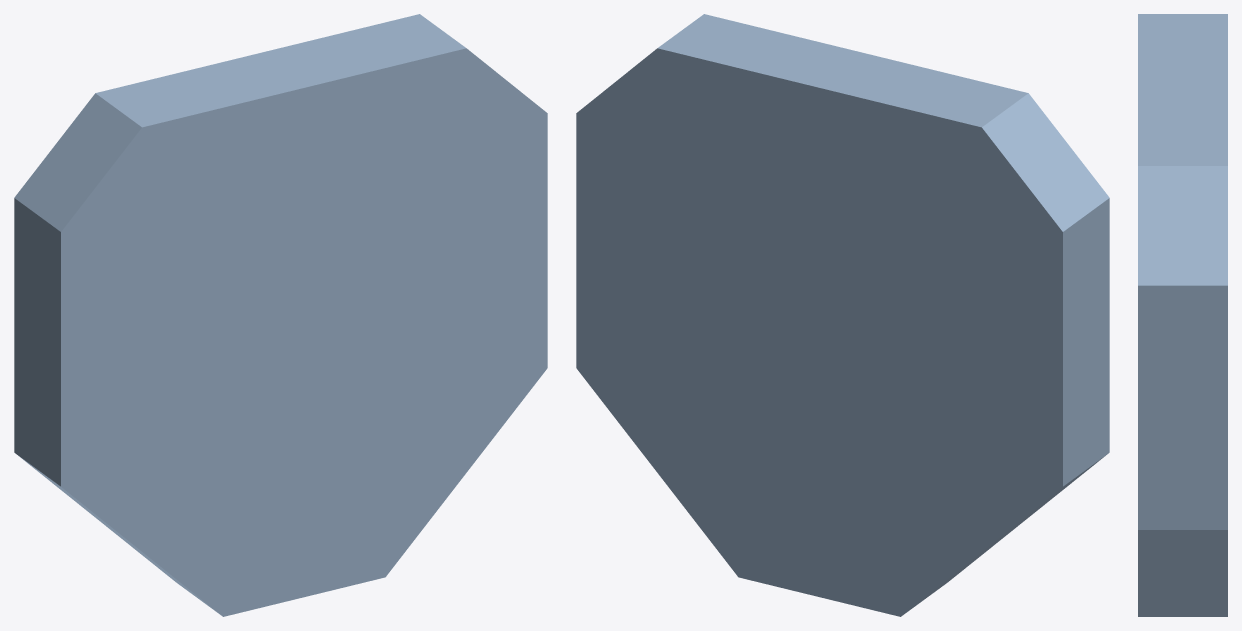
File: triangleBody.glb
3 renders of one model, left to right at view 1: azimuth 30°, elevation 25°; view 2: azimuth 150°, elevation 25°; view 3: azimuth 270°, elevation 25°, orthographic. The views are drawn at different scales.
Visible parts, largest first — view 1: generated(Clone); view 2: generated(Clone); view 3: generated(Clone).
Part boxes in pixels (box(x1,y1,x2,y2)): generated(Clone): box(14, 14, 547, 616); generated(Clone): box(576, 14, 1109, 616); generated(Clone): box(1138, 14, 1227, 616).
Size of the model in its own units: 6 by 6 by 1.
